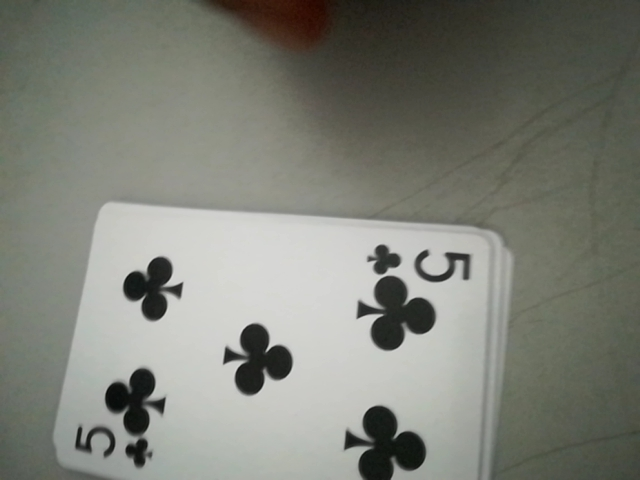mh 5: (365, 239, 480, 285), (70, 425, 156, 471)
